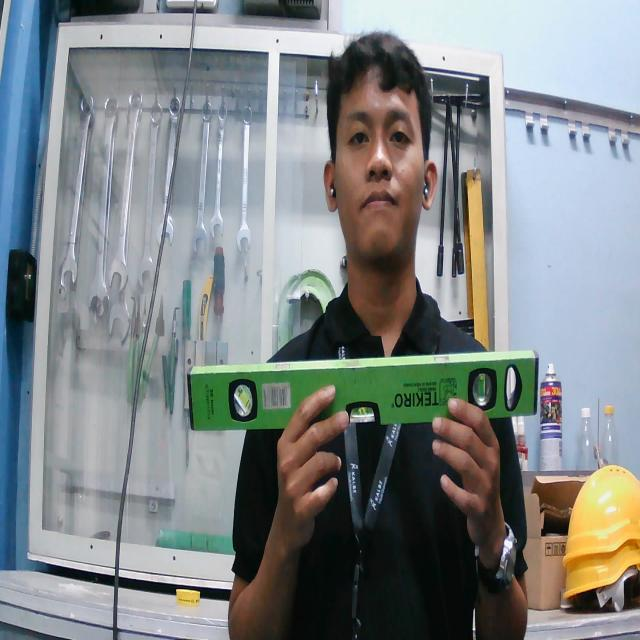water_pass: (184, 345, 542, 436)
